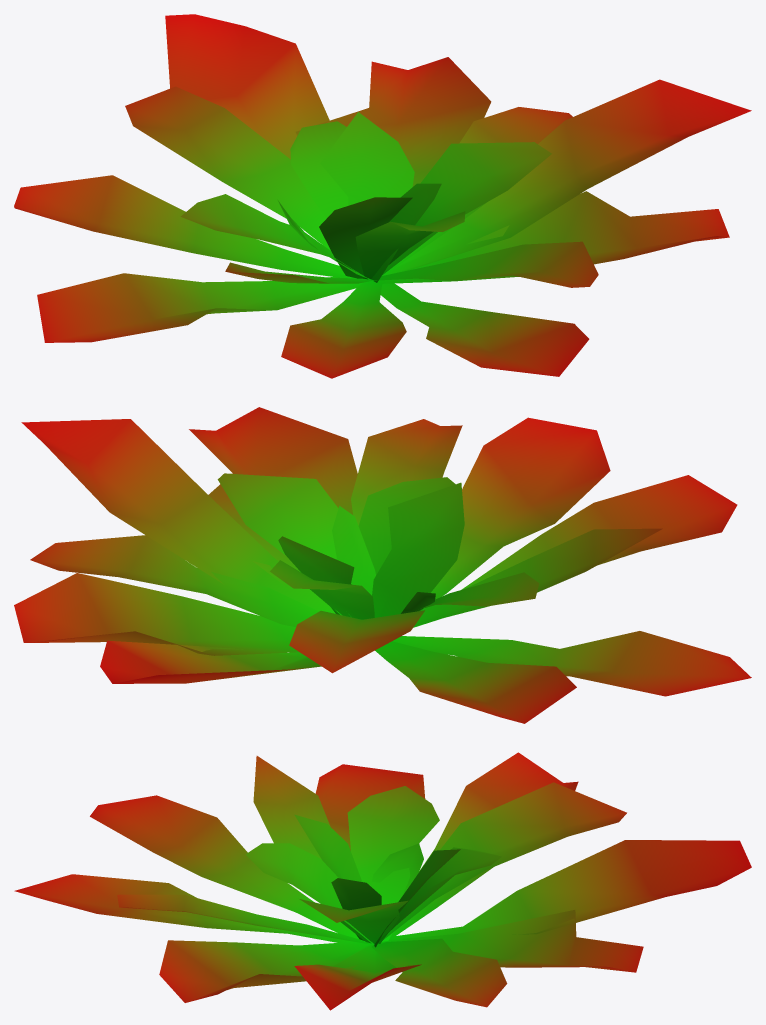
The model's file is Var29_LOD0.fbx.
3 renders of one model, top to bottom at view 1: azimuth 30°, elevation 25°; view 2: azimuth 150°, elevation 25°; view 3: azimuth 270°, elevation 25°, orthographic. The views are drawn at different scales.
Visible parts, largest first — view 1: _5ugt_Var29_LOD0; view 2: _5ugt_Var29_LOD0; view 3: _5ugt_Var29_LOD0.
Boxes of the visible parts, left/top/right/bottom form: _5ugt_Var29_LOD0: left=14, top=14, right=751, bottom=378; _5ugt_Var29_LOD0: left=14, top=407, right=751, bottom=723; _5ugt_Var29_LOD0: left=14, top=752, right=751, bottom=1010.
Size of the model in its own units: 15.8 by 2.76 by 16.11.
